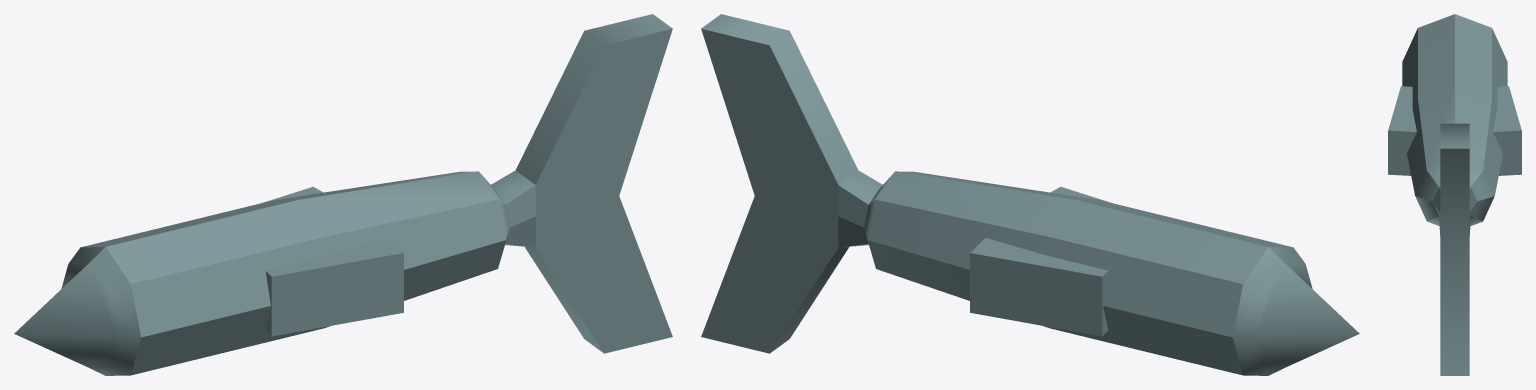
Rendered from fish.fbx.
The picture shows the model from 3 angles, left to right: view 1: azimuth 30°, elevation 25°; view 2: azimuth 150°, elevation 25°; view 3: azimuth 270°, elevation 25°; orthographic projection. The views are drawn at different scales.
Parts seen in each view (by area): view 1: pCube4; view 2: pCube4; view 3: pCube4.
Part boxes in pixels (bbox=[...]): pCube4: bbox=[14, 14, 672, 375]; pCube4: bbox=[701, 14, 1359, 375]; pCube4: bbox=[1388, 14, 1521, 375].
Size of the model in its own units: 5.22 by 2.37 by 1.26.
Materials: 1 (1 with a texture image).
